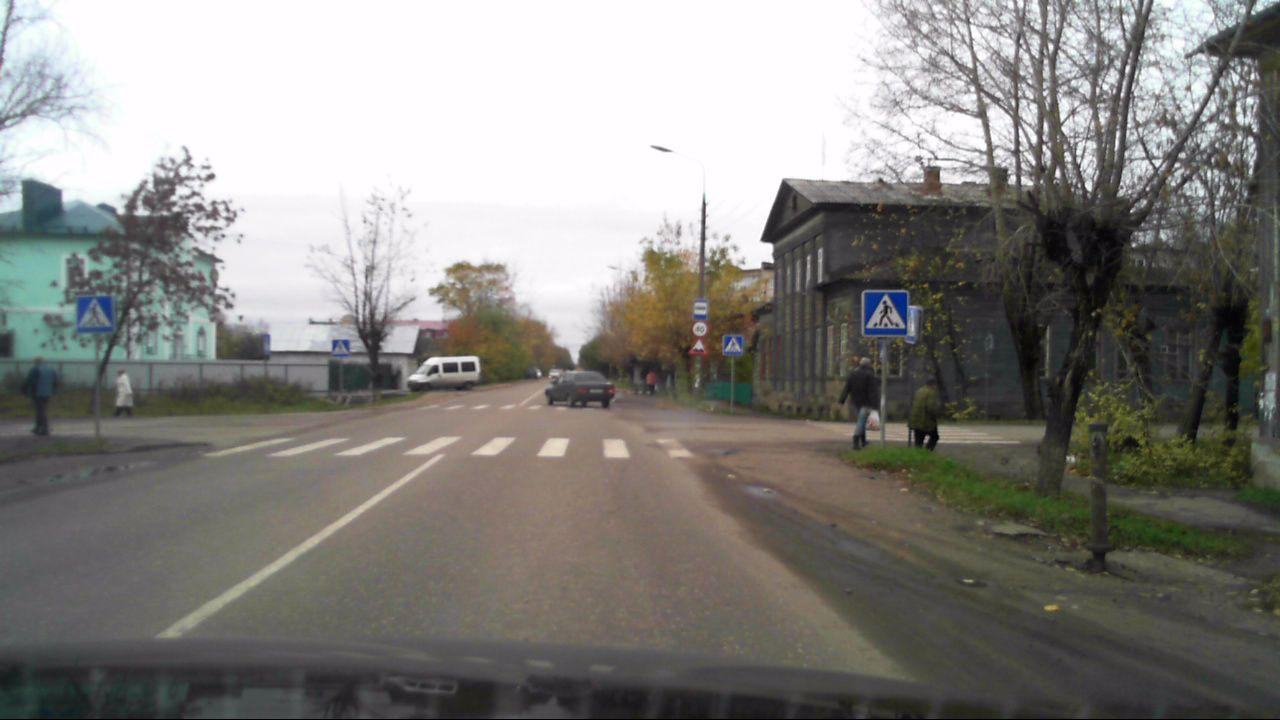road_sign: (861, 289, 911, 338), (76, 295, 115, 334), (721, 334, 744, 358), (685, 334, 709, 355), (332, 339, 350, 358), (693, 298, 708, 320), (692, 318, 708, 335)
